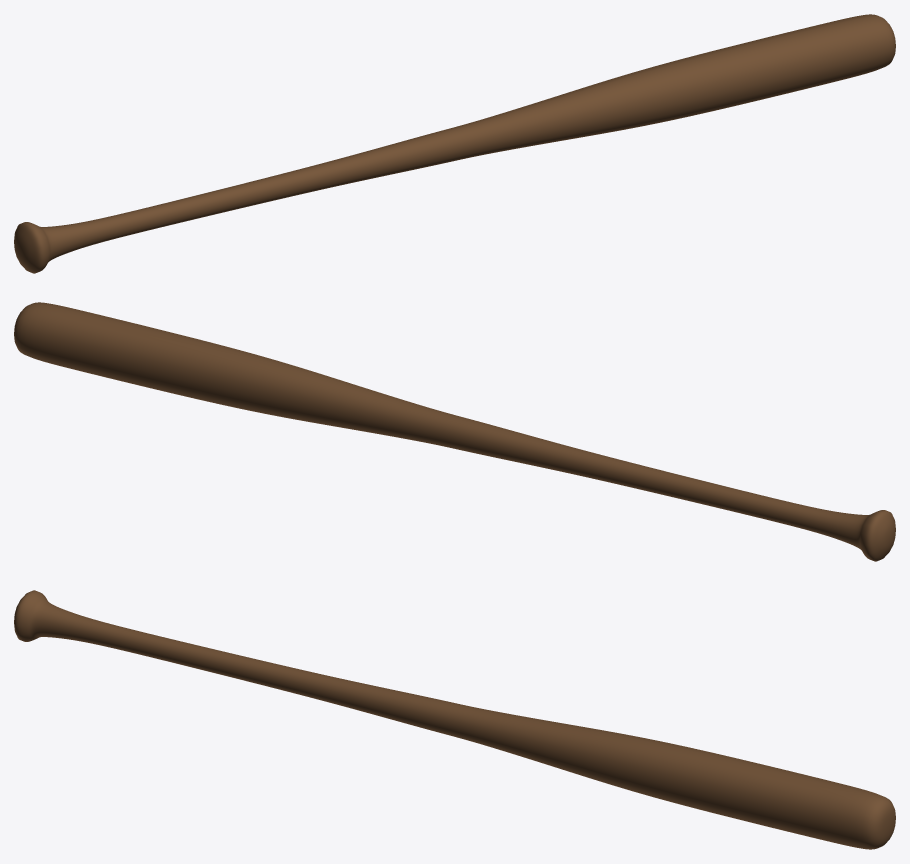
File: bat.gltf
3 views of the same model, one above another, from view 1: azimuth 30°, elevation 25°; view 2: azimuth 150°, elevation 25°; view 3: azimuth 330°, elevation 25° (orthographic).
Parts seen in each view (by area): view 1: Bate_Cube001; view 2: Bate_Cube001; view 3: Bate_Cube001.
Boxes of the visible parts, <box> form: Bate_Cube001: <box>14,14,895,273</box>; Bate_Cube001: <box>14,302,895,561</box>; Bate_Cube001: <box>14,590,895,849</box>.
Bounding box in the file's own units: 6.22 × 0.3648 × 0.3648.
